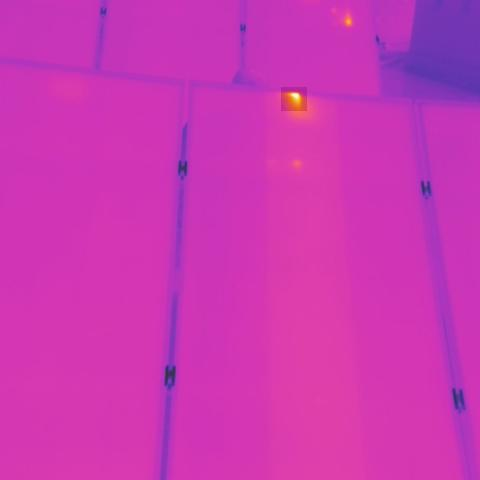fault: (281, 87, 307, 111)
